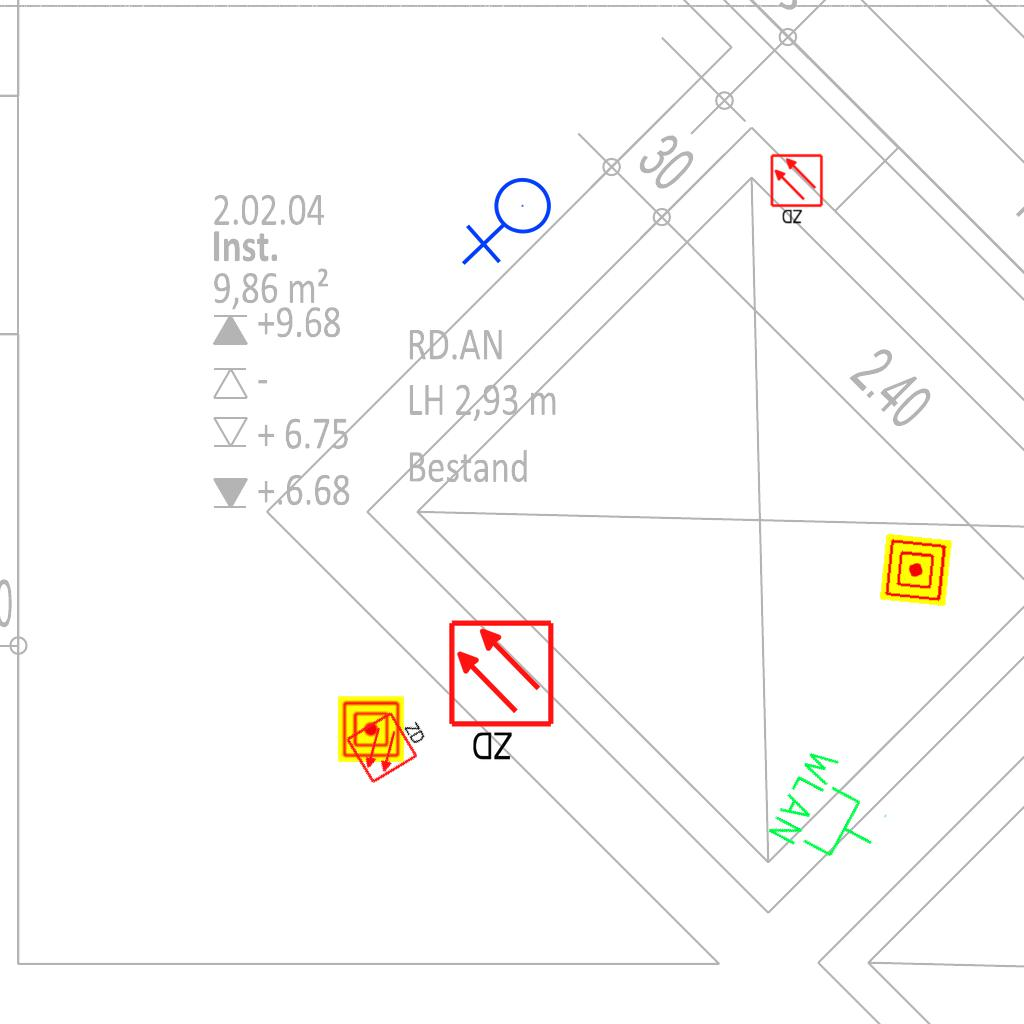Elektroanschluss_allgemein_230V_Geraeteanschlussdose_230V: (461, 176, 560, 270)
NAM-Nichtautomatischer_Melder: (879, 533, 953, 607), (338, 696, 404, 762)
WLAN: (762, 740, 904, 883)
ZD_Melder_in_Zwischendecke_mit_Revisionsoeffnung_mind_40_x_40_cm: (446, 618, 560, 767), (343, 698, 436, 786), (769, 153, 826, 227)
